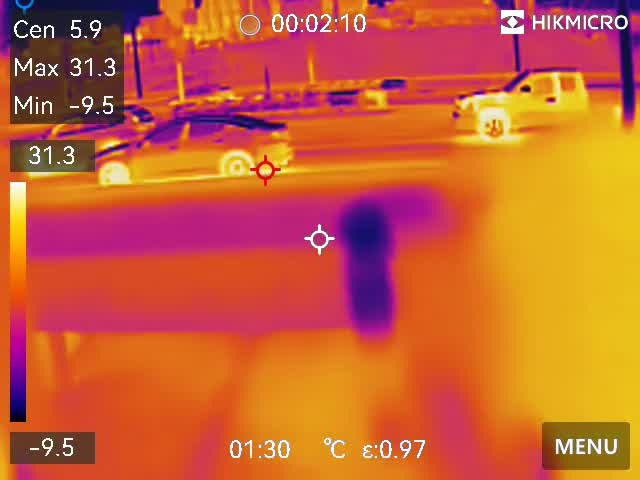largeCar: (19, 105, 154, 156)
lightTruck: (443, 59, 640, 140)
smallCar: (86, 113, 302, 183)
